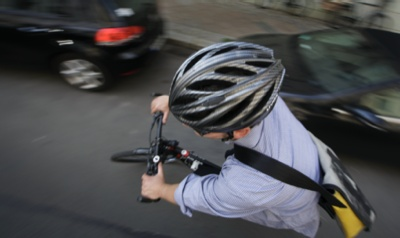helmet: (164, 38, 289, 132)
